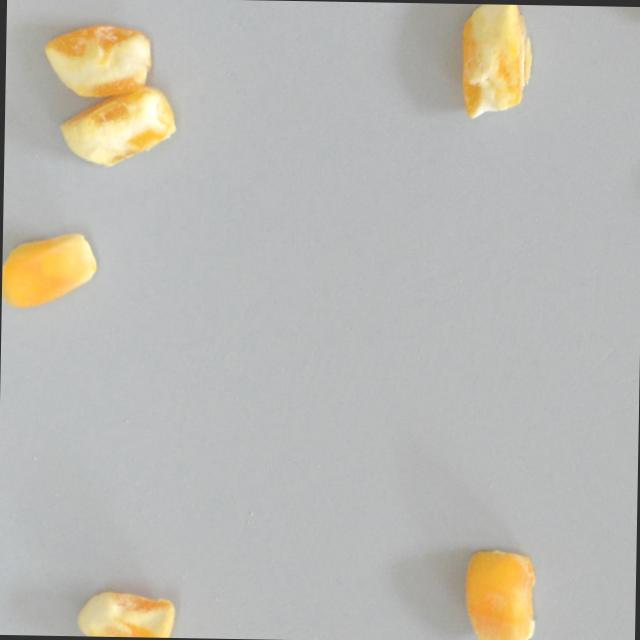pelicula: (57, 85, 175, 170), (456, 2, 531, 120), (43, 22, 153, 101), (456, 546, 539, 640), (0, 231, 95, 310), (75, 589, 176, 638)
